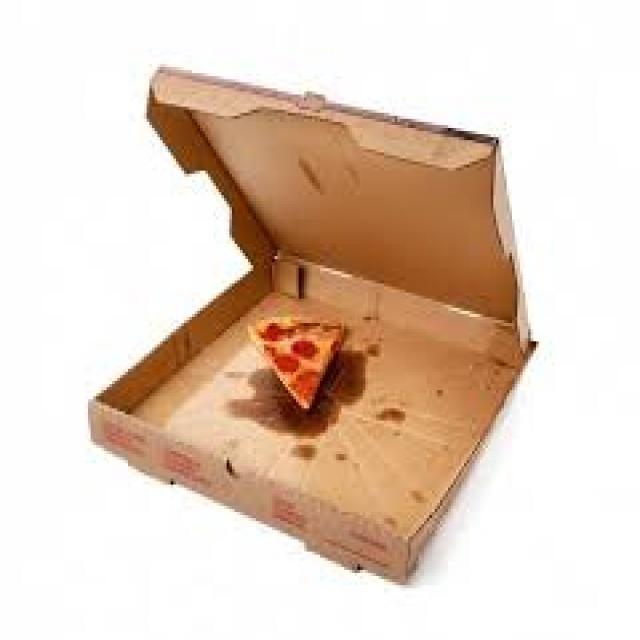organic waste: (246, 311, 342, 408)
